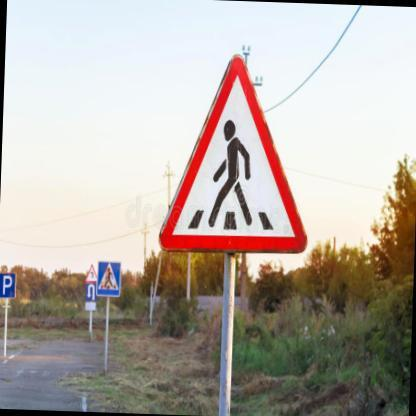road_sign: (160, 52, 306, 252), (97, 261, 120, 296), (0, 272, 15, 298), (85, 283, 96, 302)
